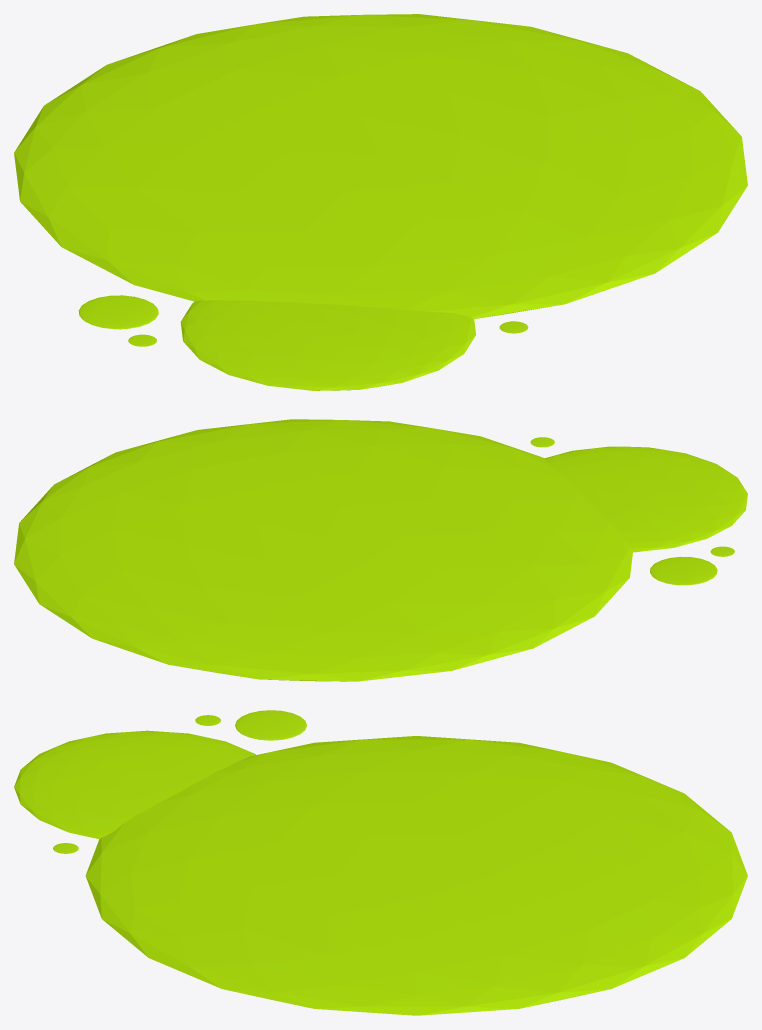
File: spill.fbx
The picture shows the model from 3 angles, top to bottom: view 1: azimuth 30°, elevation 25°; view 2: azimuth 150°, elevation 25°; view 3: azimuth 270°, elevation 25°; orthographic projection. The views are drawn at different scales.
Parts seen in each view (by area): view 1: spill; view 2: spill; view 3: spill.
Boxes of the visible parts, box(x1,y1,x2,y2) form: spill: box(14, 14, 747, 390); spill: box(14, 419, 747, 681); spill: box(14, 710, 747, 1015).
Size of the model in its own units: 218 by 8.56 by 222.
